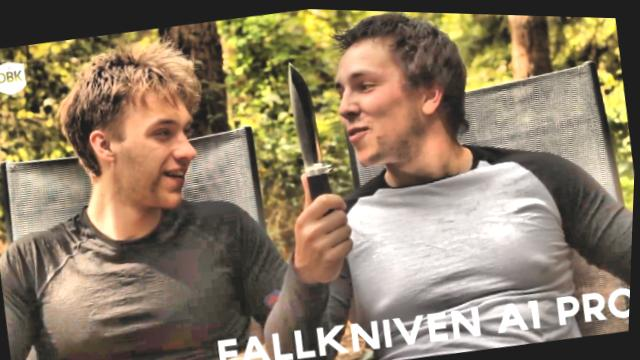knife: (271, 44, 363, 242)
